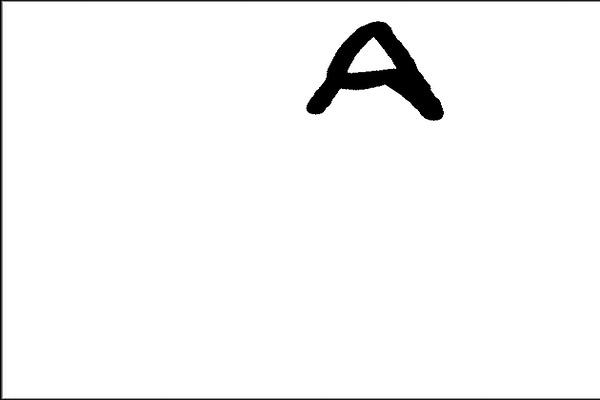A: (302, 10, 448, 130)
